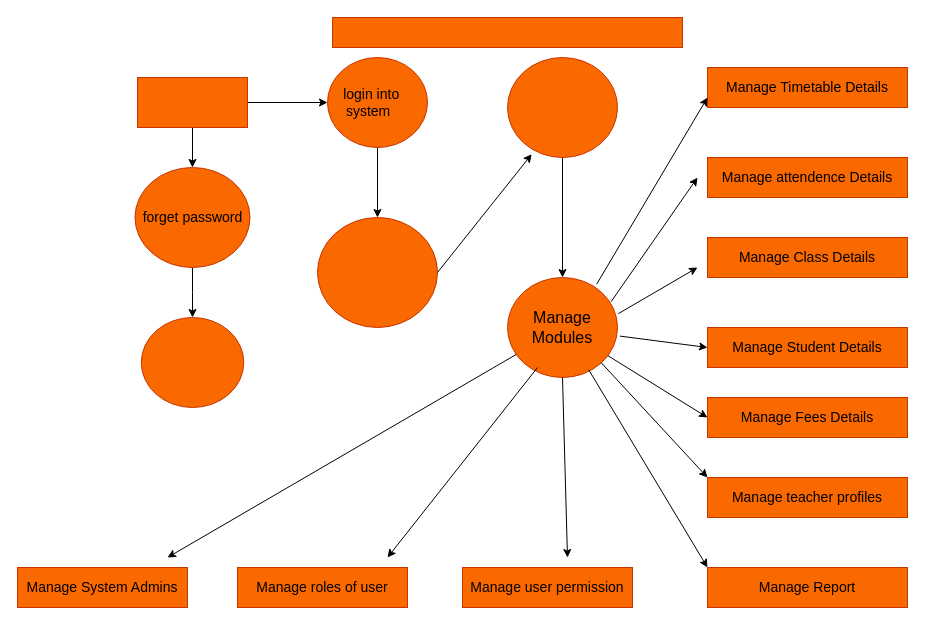
Image size: 925x625. Some labels were removed from this diagram. The centre of each missing label's shape, as x and y in pixels:
"Admin" goes at point 192,102.
"check credentials" goes at point 377,272.
"check roles of access" goes at point 562,107.
"send Email to user" goes at point 192,362.
"Student Information System" goes at point 507,32.
